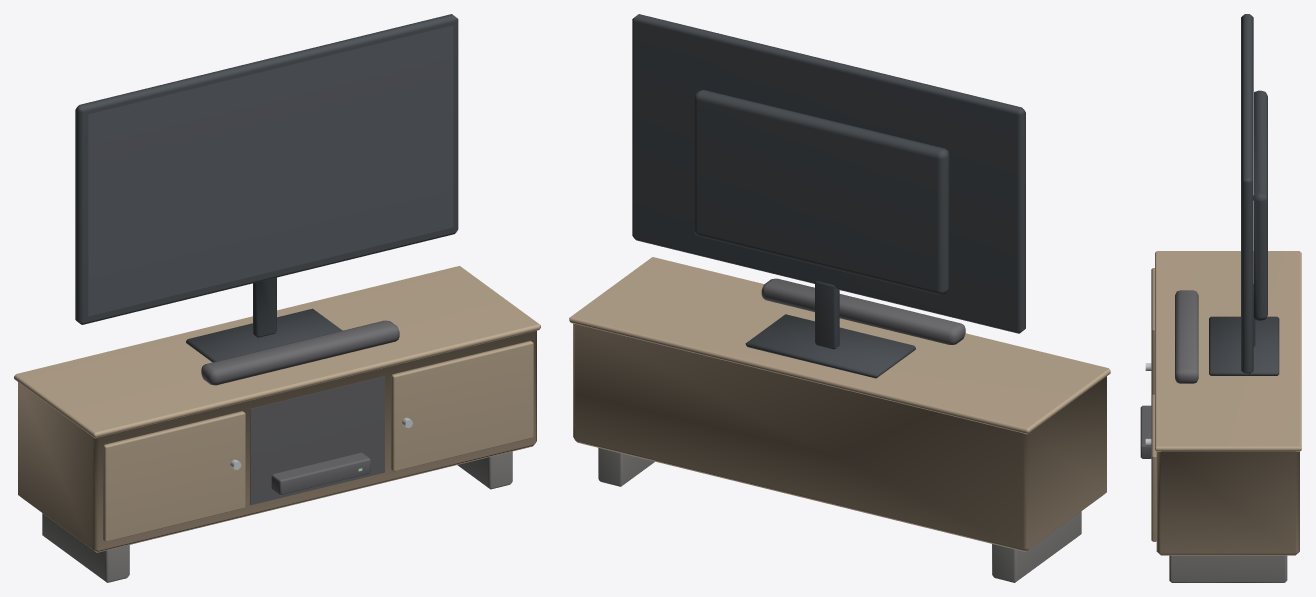
3 views of the same model, side by side, from view 1: azimuth 30°, elevation 25°; view 2: azimuth 150°, elevation 25°; view 3: azimuth 270°, elevation 25° (orthographic). The views are drawn at different scales.
Visible parts, largest first — view 1: furn_tv; view 2: furn_tv; view 3: furn_tv.
Part boxes in pixels (<box>): furn_tv: <box>14,14,540,582</box>; furn_tv: <box>569,14,1110,582</box>; furn_tv: <box>1140,14,1301,582</box>.
Size of the model in its own units: 1.46 by 1.38 by 0.5085.
